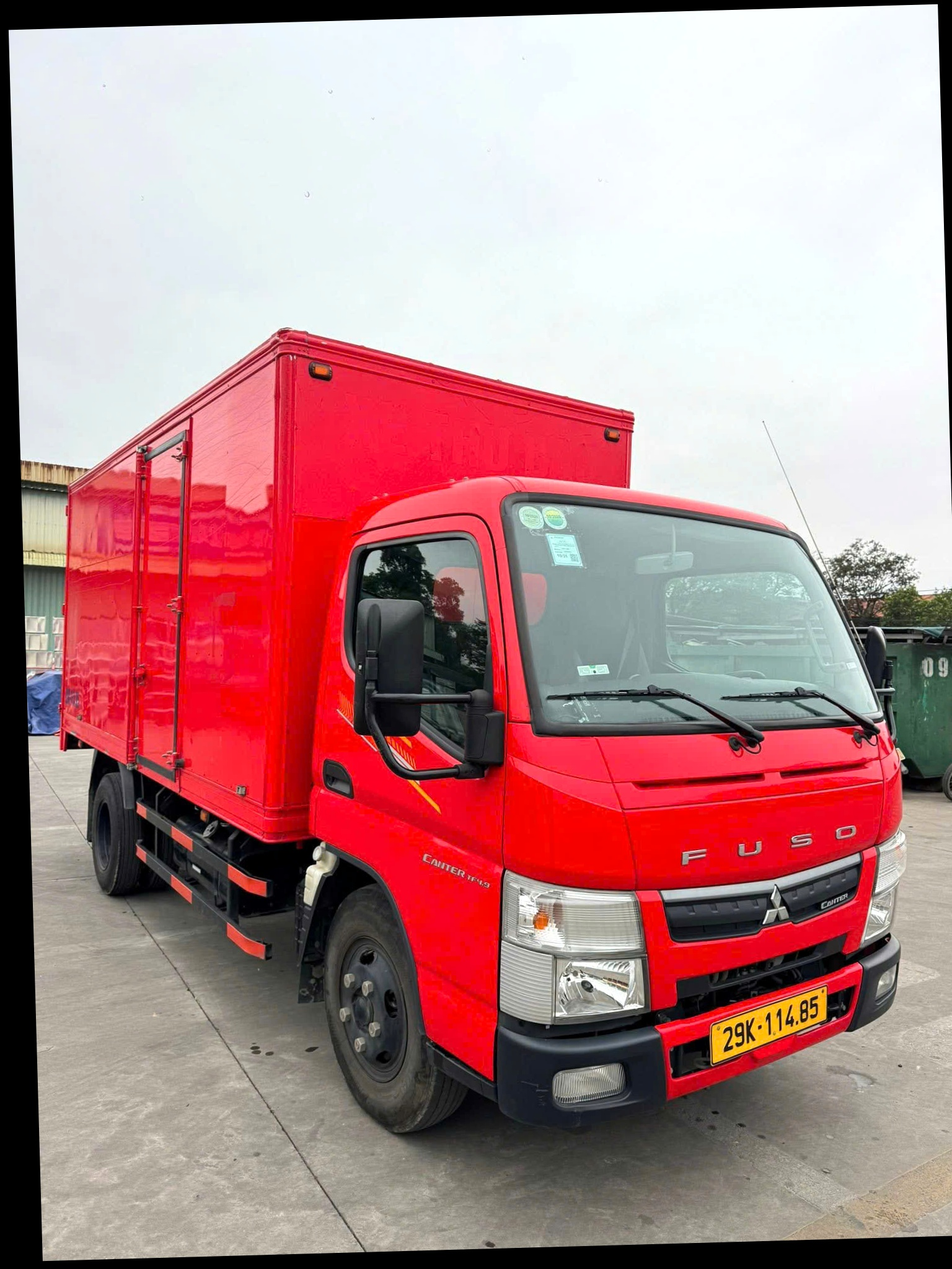Bien-so: (714, 990, 841, 1079)
